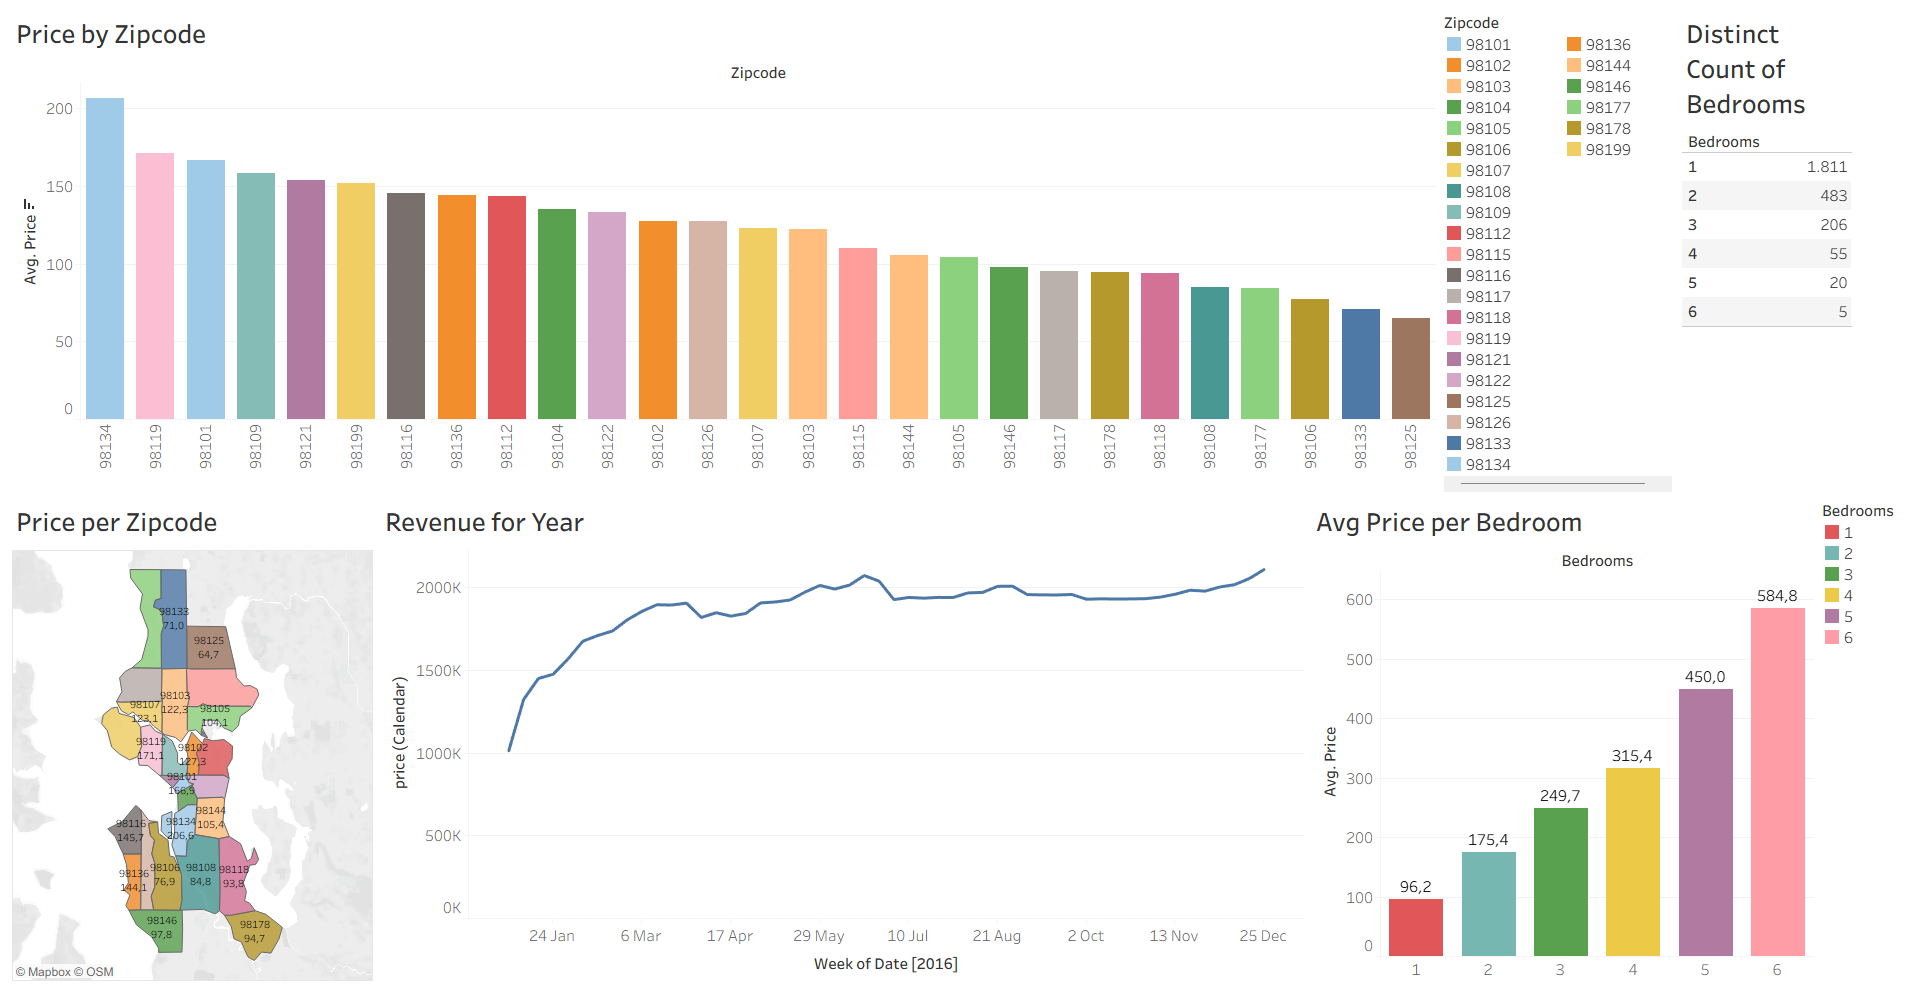

The page's visual inventory and layout, read from the dashboard file:
{"tool":"tableau","page":{"name":"Dashboard 1","canvas":[1000,1000],"units":"permille","ordinal":0},"visuals":[{"type":"worksheet","title":"Sheet 1","mark":"Automatic","rows":["price"],"cols":["zipcode"],"box":[4.8,10,761,490]},{"type":"legend","title":"Sheet 1","param":"[federated.0zt5j0b1lzkplq19exwpt03af9iz].[none:zipcode:ok]","box":[765.8,10,96,490]},{"type":"worksheet","title":"Sheet 5","mark":"Automatic","rows":["bedrooms"],"box":[861.8,10,133.4,490]},{"type":"worksheet","title":"Sheet 2","mark":"Multipolygon","box":[4.8,500,190.3,490]},{"type":"worksheet","title":"Sheet 3","mark":"Automatic","rows":["price (Calendar)"],"cols":["date"],"box":[195.1,500,480.1,490]},{"type":"worksheet","title":"Sheet 4","mark":"Automatic","rows":["price"],"cols":["bedrooms"],"box":[675.2,500,263.2,490]},{"type":"legend","title":"Sheet 4","param":"[federated.0zt5j0b1lzkplq19exwpt03af9iz].[none:bedrooms:ok]","box":[938.4,500,56.7,449.4]}]}

Visuals, with their boxes on the dashboard's canvas, which has no fixed pixel size, in thousandths of its width and height (x1, y1, x2, y2). These are canvas units, not pixel positions in the 1918x992 screenshot, which may show the page scaled, cropped or inside an application window:
"Sheet 1" worksheet: [x1=5, y1=10, x2=766, y2=500]
"Sheet 1" legend: [x1=766, y1=10, x2=862, y2=500]
"Sheet 5" worksheet: [x1=862, y1=10, x2=995, y2=500]
"Sheet 2" worksheet (Multipolygon marks): [x1=5, y1=500, x2=195, y2=990]
"Sheet 3" worksheet: [x1=195, y1=500, x2=675, y2=990]
"Sheet 4" worksheet: [x1=675, y1=500, x2=938, y2=990]
"Sheet 4" legend: [x1=938, y1=500, x2=995, y2=949]
